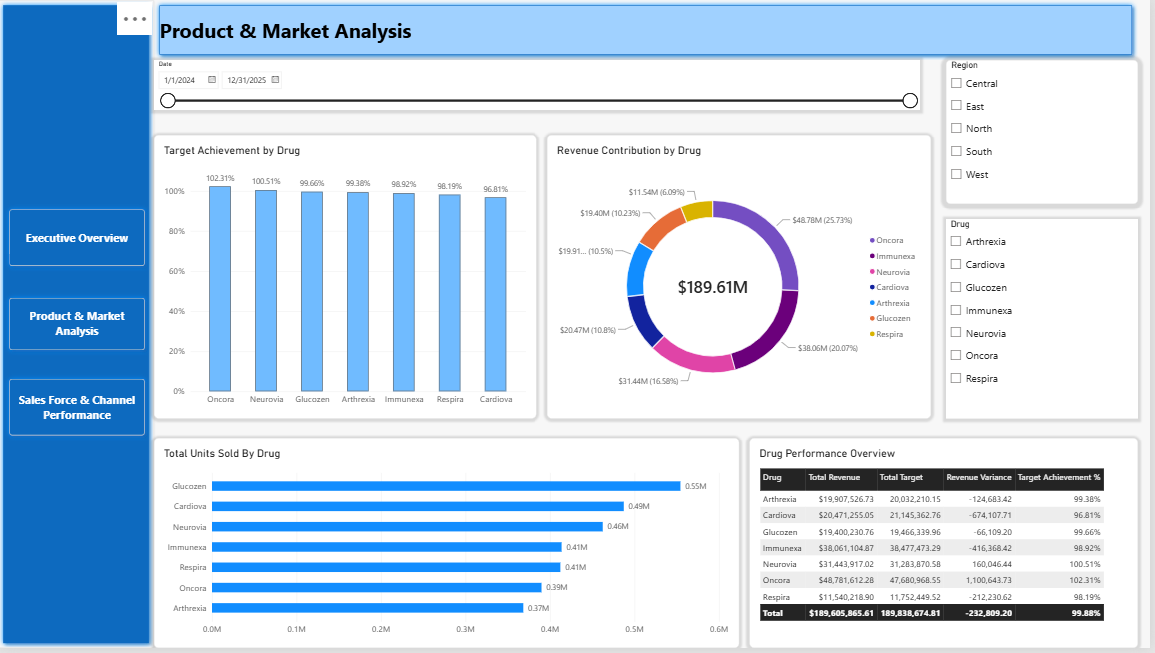

This screenshot's page, from the dashboard's own definition file:
{"tool":"powerbi","page":{"name":"Page 2","canvas":[1920,1080],"ordinal":1},"visuals":[{"type":"shape","box":[0,0,260.1,1080.8],"z":0},{"type":"actionButton","box":[9.5,338.8,243.4,112.1],"z":1000},{"type":"actionButton","box":[9.5,486.7,243.4,105],"z":2000},{"type":"actionButton","box":[9.5,622.7,243.4,112.1],"z":3000},{"type":"shape","box":[260.1,0,1639.1,100.2],"z":4000},{"type":"donutChart","title":"Revenue Contribution by Drug","fields":{"Category":["Pharma_Analytics.Drug"],"Y":["Measures (2).Total Revenue"]},"box":[915,225,640,472.5],"z":5000},{"type":"clusteredColumnChart","title":"Target Achievement by Drug","fields":{"Category":["Pharma_Analytics.Drug"],"Y":["Measures (2).Target Achievement %"]},"box":[260,225,637.5,472.5],"z":6000},{"type":"tableEx","title":"Drug Performance Overview","fields":{"Values":["Pharma_Analytics.Drug","Measures (2).Total Revenue","Measures (2).Total Target","Measures (2).Revenue Variance","Measures (2).Target Achievement %"]},"box":[1252.5,730,647.5,350],"z":7000},{"type":"slicer","fields":{"Values":["Pharma_Analytics.Region"]},"box":[1580,100,320,240],"z":8000},{"type":"slicer","fields":{"Values":["Pharma_Analytics.Date"]},"box":[260,100,1276.7,83.3],"z":9000},{"type":"slicer","fields":{"Values":["Pharma_Analytics.Drug"]},"box":[1580,365,320,332.5],"z":10000},{"type":"clusteredBarChart","title":"Total Units Sold By Drug","fields":{"Category":["Pharma_Analytics.Drug"],"Y":["Sum(Pharma_Analytics.Units_Sold)"]},"box":[260,730,975,350],"z":11000}]}

Visuals, with their boxes on the page's 1920x1080 design canvas (x1, y1, x2, y2). These are canvas units, not pixel positions in the 1155x653 screenshot, which may show the page scaled, cropped or inside an application window:
shape: detection(0, 0, 260, 1081)
actionButton: detection(10, 339, 253, 451)
actionButton: detection(10, 487, 253, 592)
actionButton: detection(10, 623, 253, 735)
shape: detection(260, 0, 1899, 100)
"Revenue Contribution by Drug" donutChart: detection(915, 225, 1555, 698)
"Target Achievement by Drug" clusteredColumnChart: detection(260, 225, 898, 698)
"Drug Performance Overview" tableEx: detection(1252, 730, 1900, 1080)
slicer - Pharma_Analytics.Region: detection(1580, 100, 1900, 340)
slicer - Pharma_Analytics.Date: detection(260, 100, 1537, 183)
slicer - Pharma_Analytics.Drug: detection(1580, 365, 1900, 698)
"Total Units Sold By Drug" clusteredBarChart: detection(260, 730, 1235, 1080)
